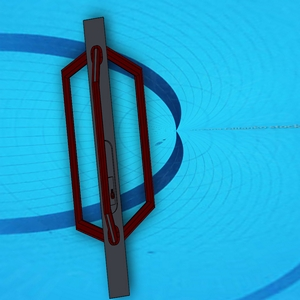submarine: (58, 17, 151, 300)
